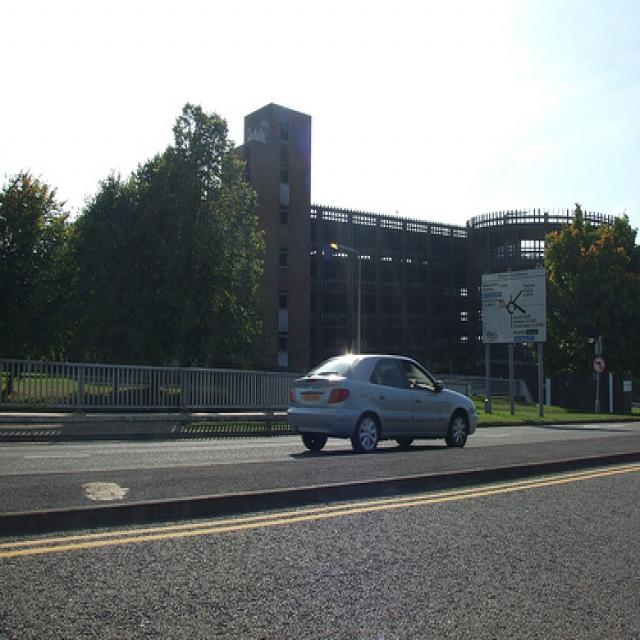Car: (271, 344, 486, 469)
